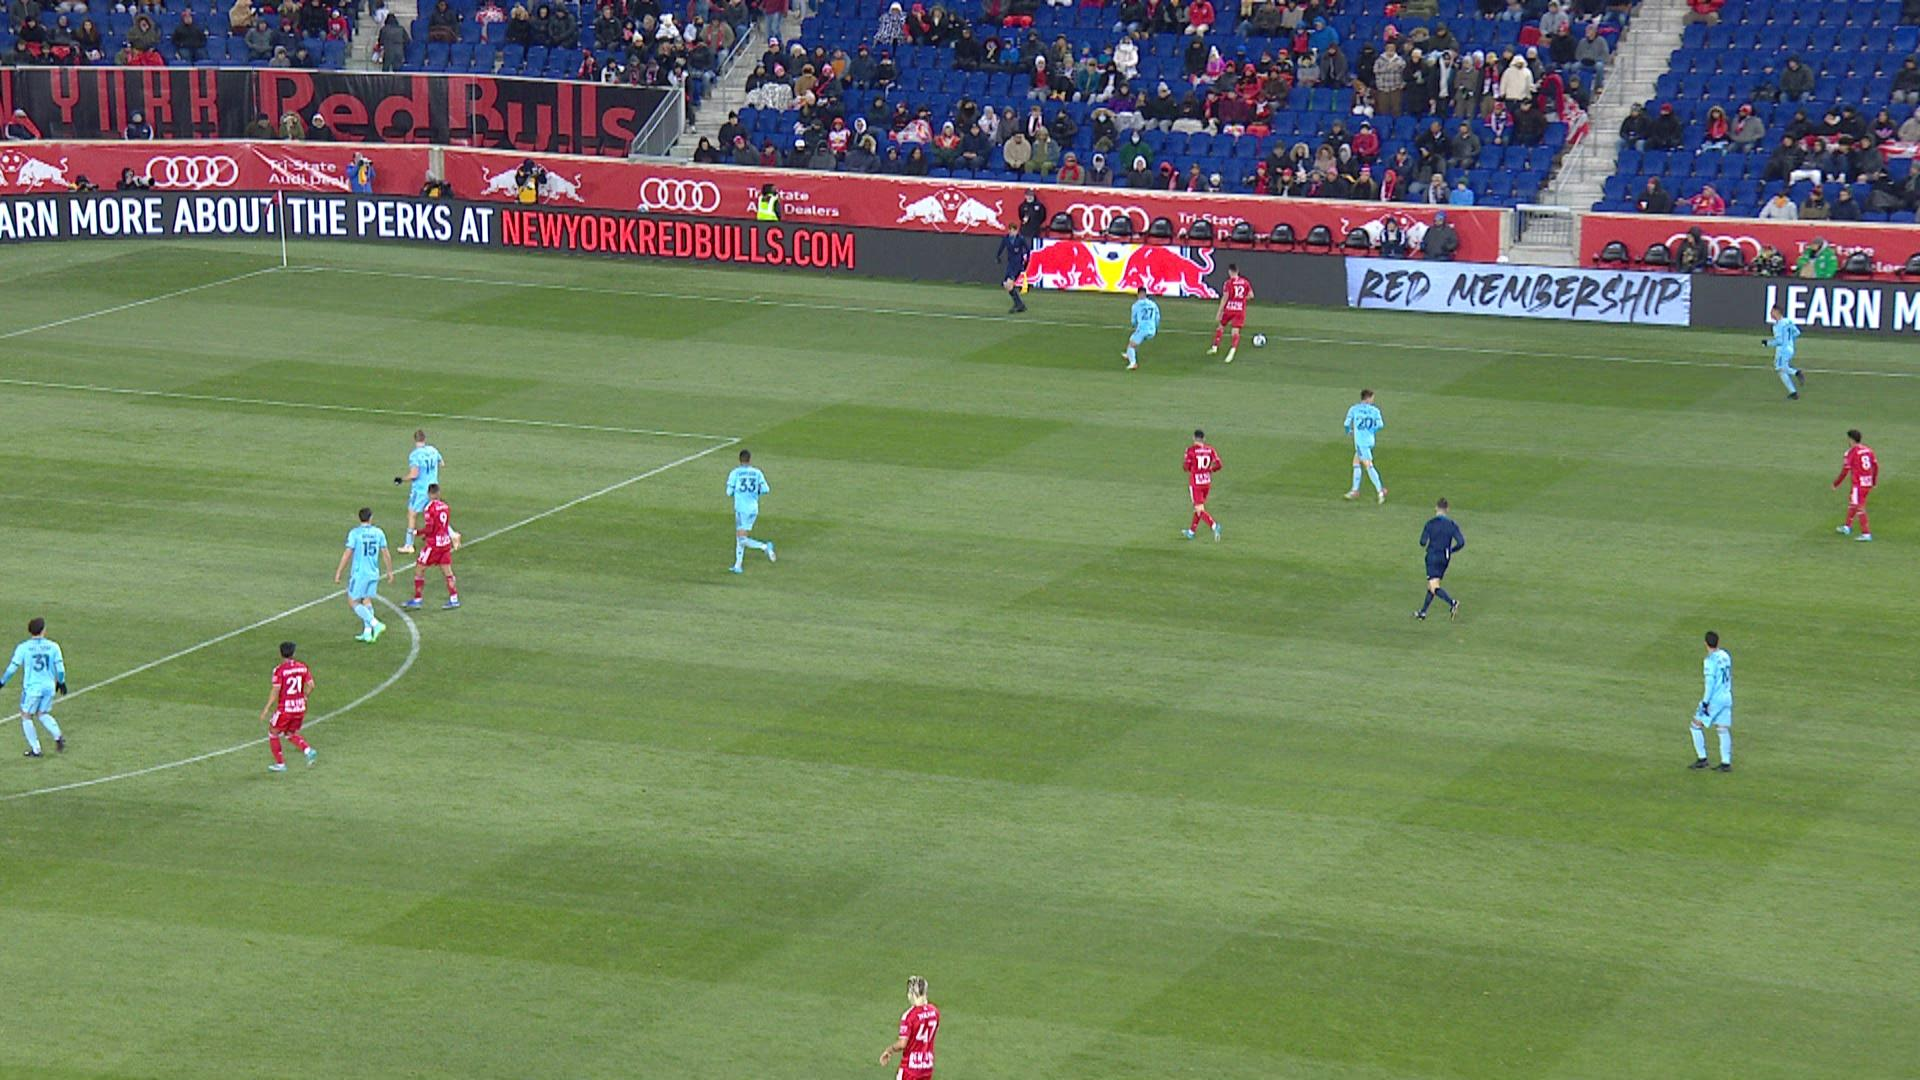football: (1253, 333, 1267, 347)
